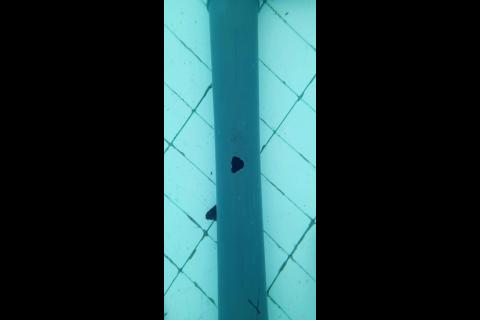kebocoran: (230, 154, 246, 175)
keretakan: (246, 286, 262, 320)
